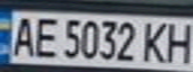0: (78, 17, 100, 61)
2: (115, 18, 142, 63)
3: (96, 18, 121, 62)
5: (57, 16, 84, 60)
A: (6, 14, 39, 57)
E: (30, 13, 60, 60)
H: (163, 19, 193, 64)
K: (139, 18, 172, 64)
